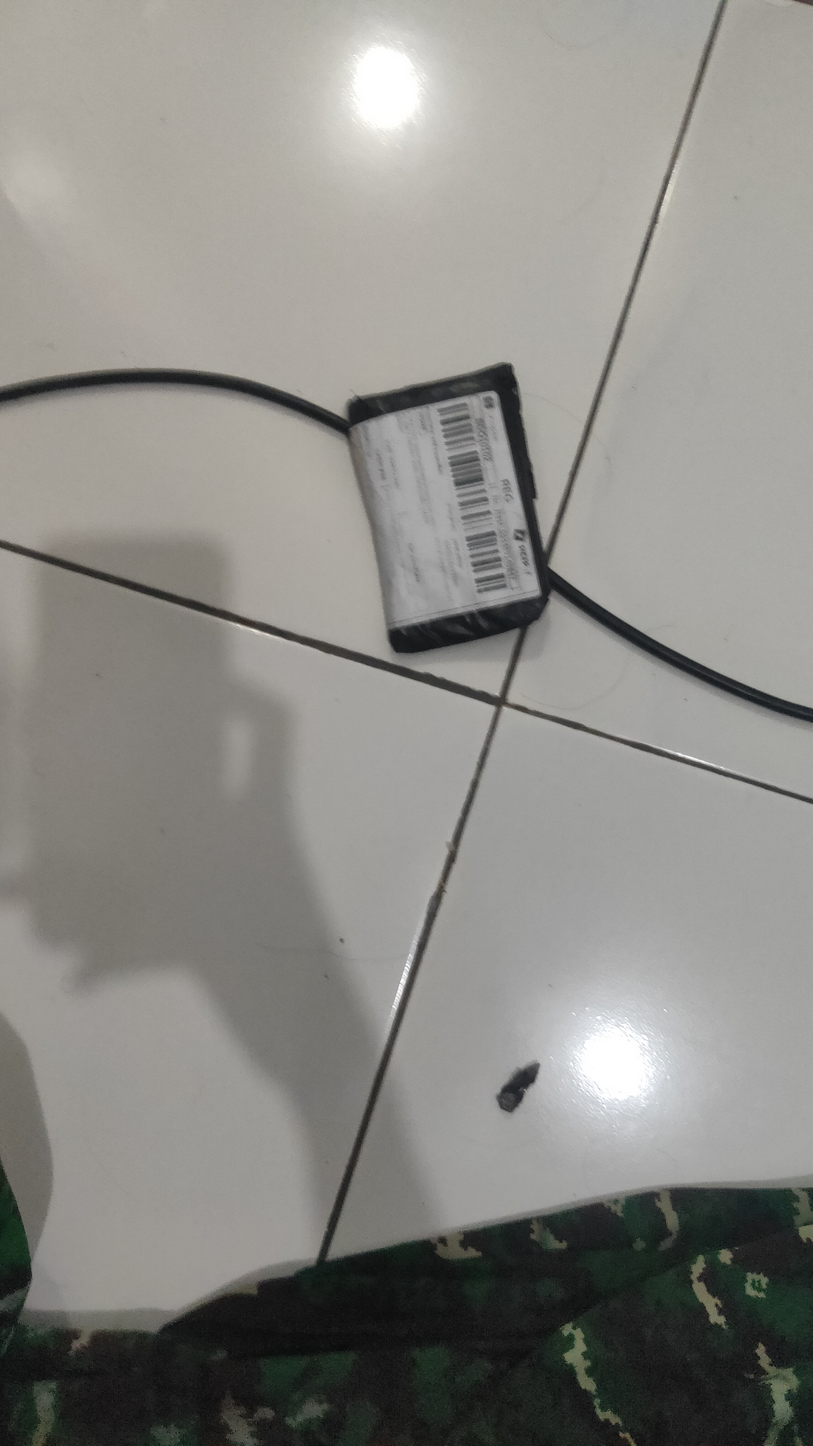undamaged: (339, 364, 551, 660)
